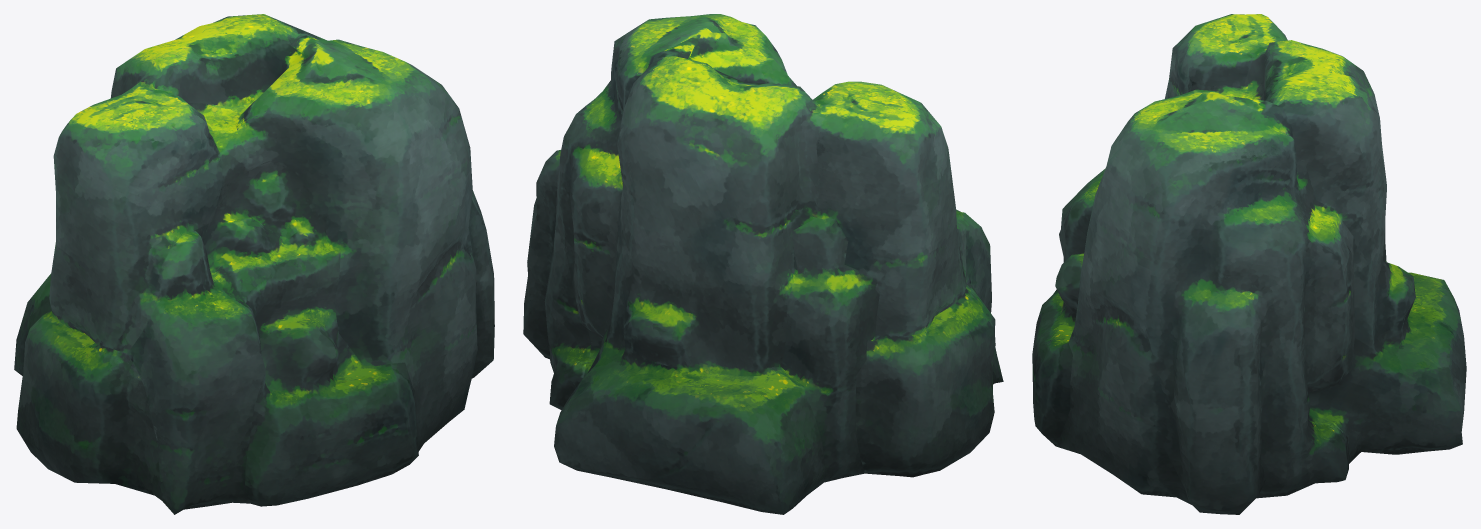
The model's file is ghiblianime_style_rocks_smart_material.glb.
3 views of the same model, side by side, from view 1: azimuth 30°, elevation 25°; view 2: azimuth 150°, elevation 25°; view 3: azimuth 270°, elevation 25° (orthographic).
Parts seen in each view (by area): view 1: Object_2; view 2: Object_2; view 3: Object_2.
Part boxes in pixels (x1,y1,x2,y2): Object_2: (14, 14, 494, 514); Object_2: (523, 14, 1003, 514); Object_2: (1032, 14, 1466, 514).
Bounding box in the file's own units: 383 × 296 × 330.
Materials: 1 (1 with a texture image).
